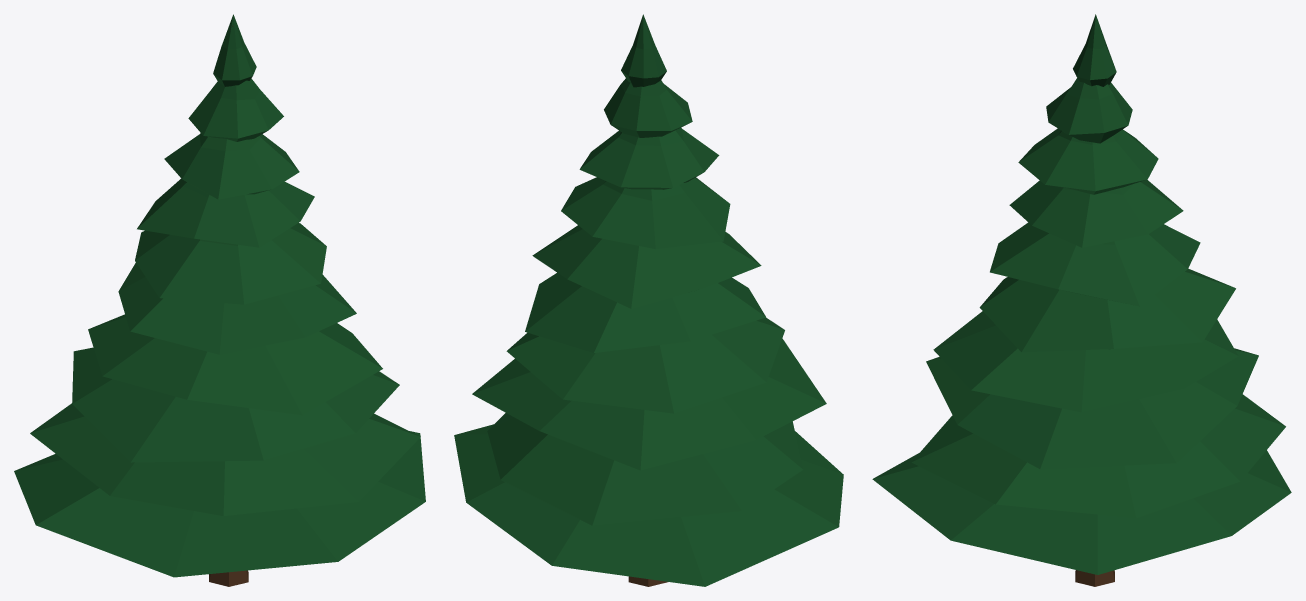
Rendered from tree_pine.glb.
3 views of the same model, side by side, from view 1: azimuth 30°, elevation 25°; view 2: azimuth 150°, elevation 25°; view 3: azimuth 270°, elevation 25° (orthographic).
Visible parts, largest first — view 1: tree_pine_mesh; view 2: tree_pine_mesh; view 3: tree_pine_mesh.
Part boxes in pixels (<box>): tree_pine_mesh: <box>14,14,425,586</box>; tree_pine_mesh: <box>454,14,843,586</box>; tree_pine_mesh: <box>872,14,1291,586</box>.
Size of the model in its own units: 5.84 by 8.15 by 5.48.
